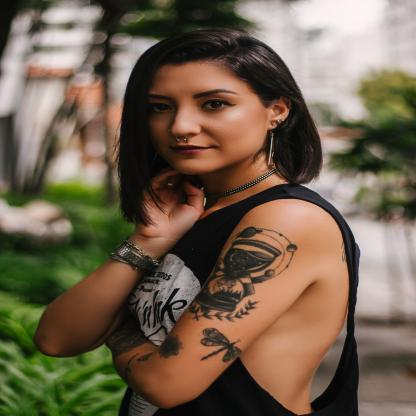Eye: (200, 99, 237, 111), (150, 102, 172, 114)
Mouth: (166, 144, 213, 154)
Nose: (170, 108, 201, 136)
